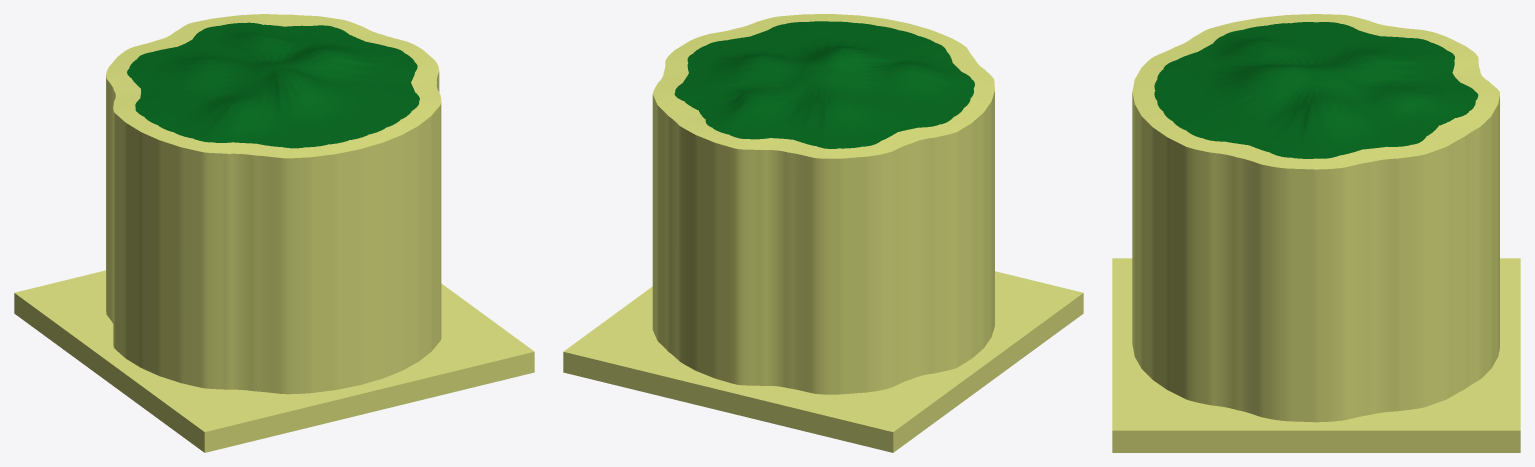
Rendered from Wild_Medium_Island_01.fbx.
3 renders of one model, left to right at view 1: azimuth 30°, elevation 25°; view 2: azimuth 150°, elevation 25°; view 3: azimuth 270°, elevation 25°, orthographic. The views are drawn at different scales.
Parts seen in each view (by area): view 1: Wild_Medium_Island_01; view 2: Wild_Medium_Island_01; view 3: Wild_Medium_Island_01.
Boxes of the visible parts, left/top/right/bottom form: Wild_Medium_Island_01: left=14, top=14, right=534, bottom=452; Wild_Medium_Island_01: left=563, top=14, right=1083, bottom=452; Wild_Medium_Island_01: left=1112, top=14, right=1520, bottom=452.
Size of the model in its own units: 68.06 by 54.98 by 68.06.
